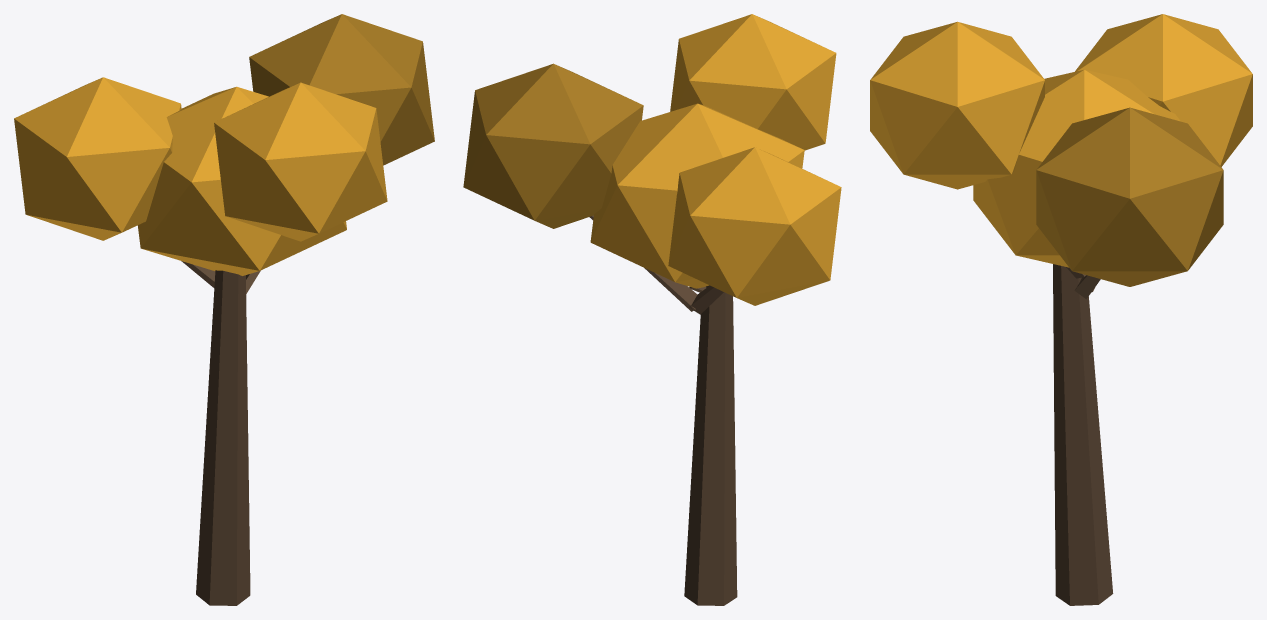
File: broad-v2-autumn.glb
3 renders of one model, left to right at view 1: azimuth 30°, elevation 25°; view 2: azimuth 150°, elevation 25°; view 3: azimuth 270°, elevation 25°, orthographic. The views are drawn at different scales.
Parts seen in each view (by area): view 1: broad_v2; view 2: broad_v2; view 3: broad_v2.
Boxes of the visible parts, <box> form: broad_v2: <box>14,14,434,605</box>; broad_v2: <box>463,14,841,605</box>; broad_v2: <box>870,14,1252,605</box>.
Size of what is drawn, in the model's own units: 4.85 by 6.71 by 3.99.
